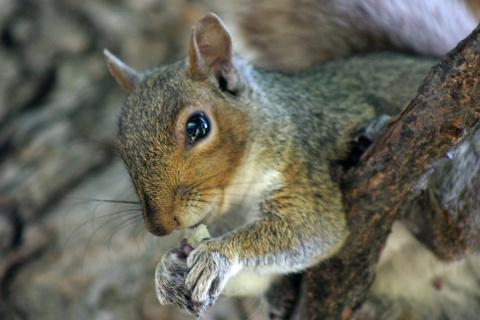Squirrel: (60, 9, 479, 318)
